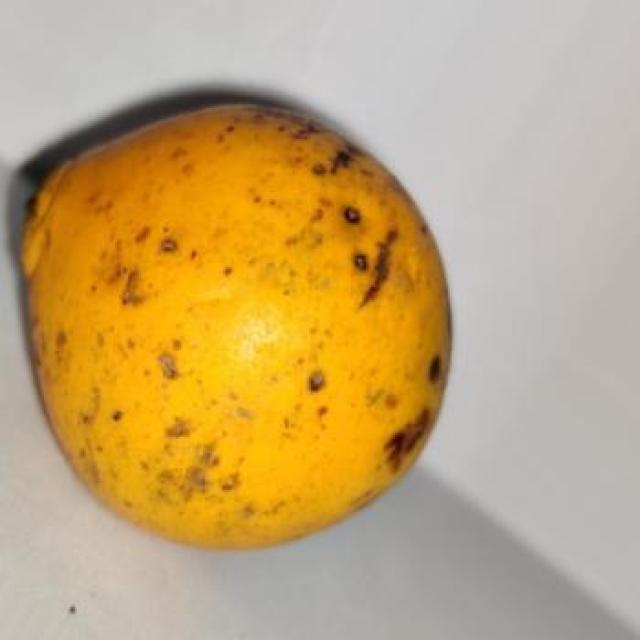good: (15, 99, 452, 552)
